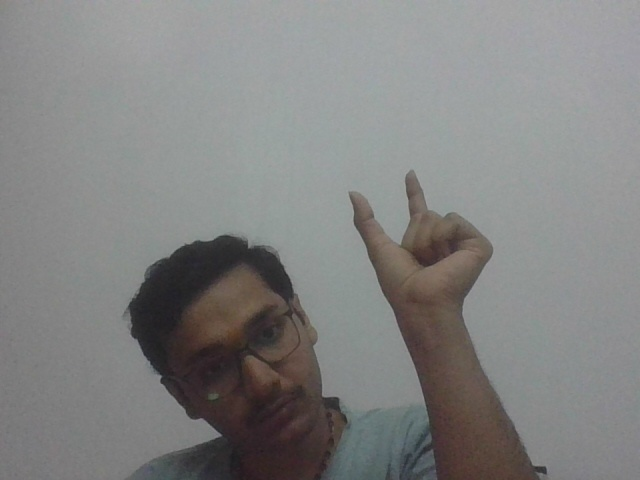U: (344, 166, 499, 317)
